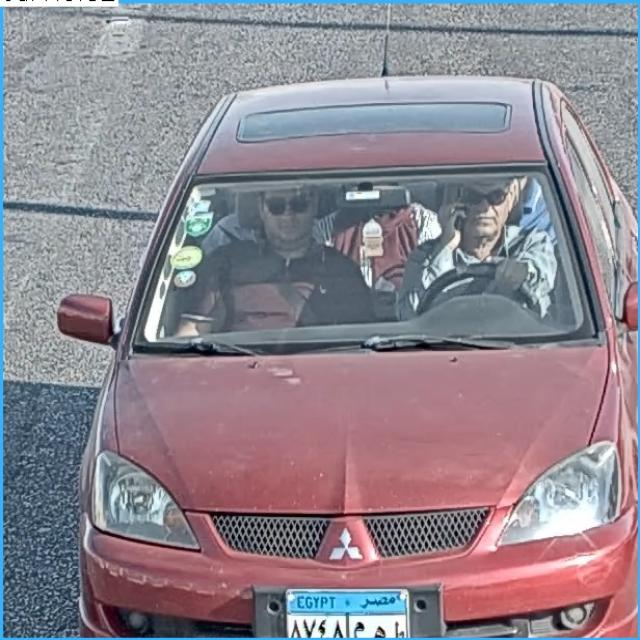windshield: (142, 156, 592, 352)
